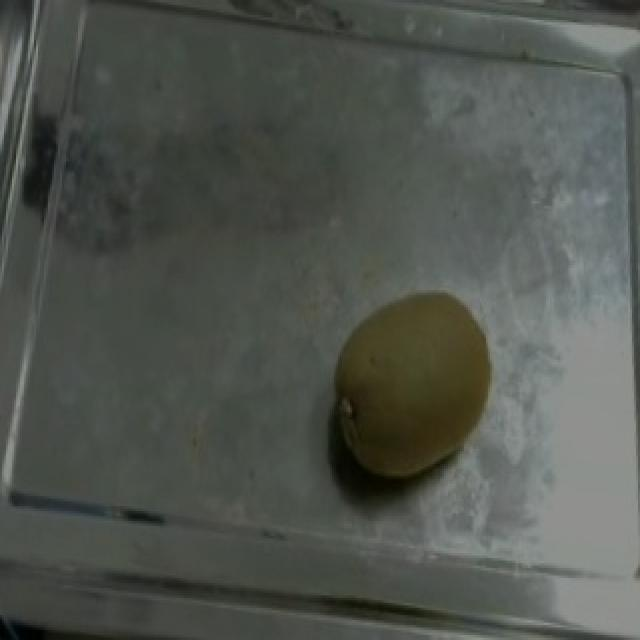Fruit: (318, 283, 510, 496)
